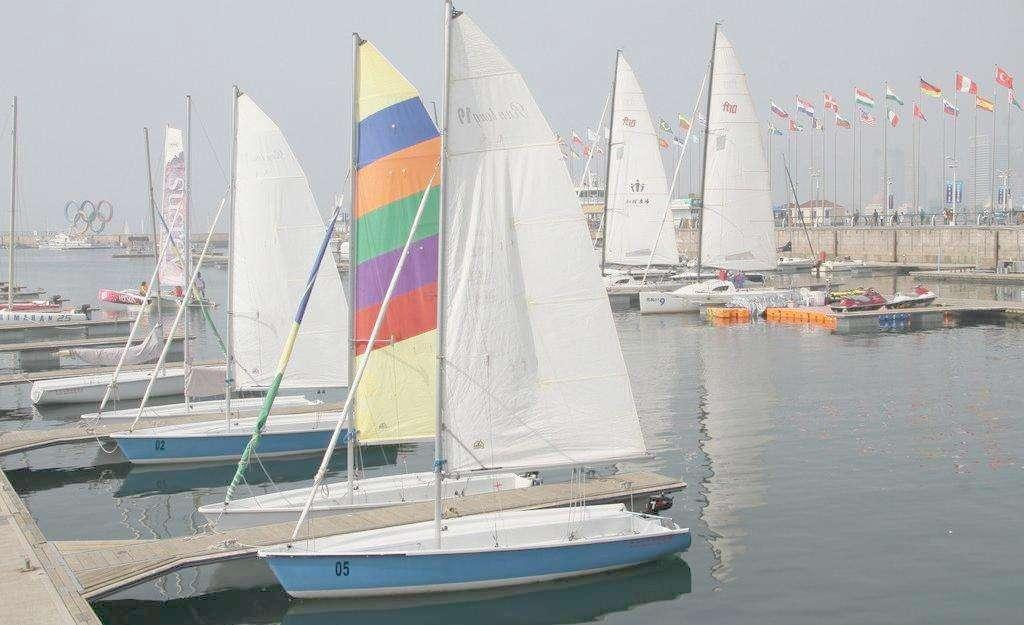fanchuan: (256, 1, 696, 600), (201, 29, 458, 535), (119, 85, 348, 470), (638, 19, 786, 321)
